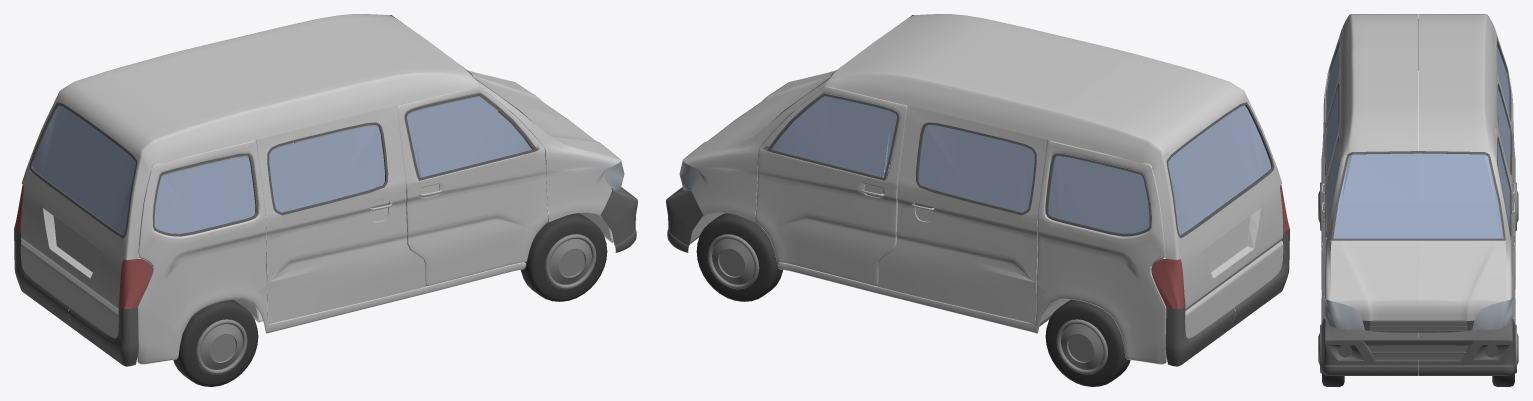
File: MINIBUS.glb
3 views of the same model, side by side, from view 1: azimuth 30°, elevation 25°; view 2: azimuth 150°, elevation 25°; view 3: azimuth 270°, elevation 25° (orthographic). The views are drawn at different scales.
Parts seen in each view (by area): view 1: body, SM_MB_车架.003; view 2: body, SM_MB_车架.003; view 3: body, SM_MB_车架.003.
Boxes of the visible parts, left/top/right/bottom form: body: left=20, top=14, right=620, bottom=364; SM_MB_车架.003: left=14, top=15, right=637, bottom=386; body: left=683, top=14, right=1283, bottom=364; SM_MB_车架.003: left=666, top=15, right=1289, bottom=386; body: left=1321, top=14, right=1515, bottom=325; SM_MB_车架.003: left=1318, top=19, right=1518, bottom=386.
Bounding box in the file's own units: 3.77 × 1.77 × 1.52.
